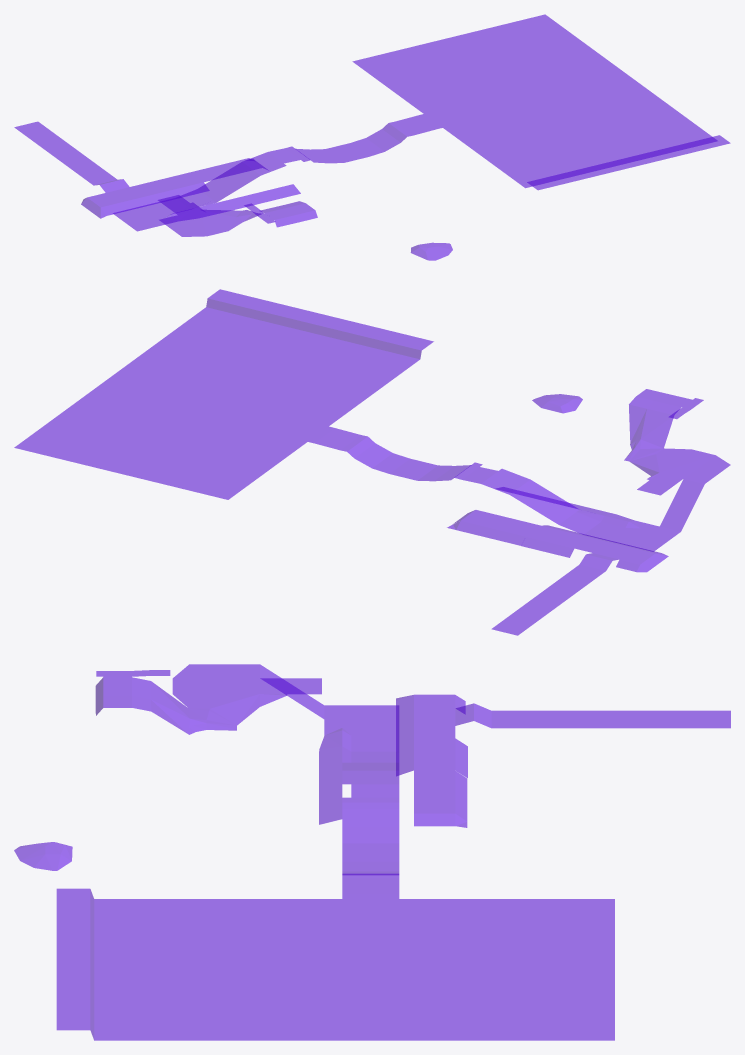
The model's file is WorldADV03_Beach_Floors.glb.
The picture shows the model from 3 angles, top to bottom: view 1: azimuth 30°, elevation 25°; view 2: azimuth 150°, elevation 25°; view 3: azimuth 270°, elevation 25°; orthographic projection. The views are drawn at different scales.
Parts seen in each view (by area): view 1: F_fullhitbox_arena1, F_fullhitbox_strand2, F_fullhitbox_weg2, F_fullhitbox_bruecke1, F_fullhitbox_weg1, F_fullhitbox_weg3, F_fullhitbox_weg4, F_fullhitbox_insel; view 2: F_fullhitbox_arena1, F_fullhitbox_strand2, F_fullhitbox_weg2, F_fullhitbox_bruecke1, F_fullhitbox_weg1, F_fullhitbox_weg3, F_fullhitbox_insel; view 3: F_fullhitbox_arena1, F_fullhitbox_strand2, F_fullhitbox_weg2, F_fullhitbox_bruecke1, F_fullhitbox_weg1, F_fullhitbox_weg4, F_fullhitbox_weg3, F_fullhitbox_insel.
Part boxes in pixels (x1=…): F_fullhitbox_arena1: x1=352, y1=14, x2=730, y2=190; F_fullhitbox_strand2: x1=14, y1=121, x2=267, y2=218; F_fullhitbox_weg2: x1=158, y1=195, x2=317, y2=236; F_fullhitbox_bruecke1: x1=268, y1=115, x2=435, y2=163; F_fullhitbox_weg1: x1=113, y1=189, x2=223, y2=231; F_fullhitbox_weg3: x1=198, y1=152, x2=286, y2=202; F_fullhitbox_weg4: x1=217, y1=184, x2=300, y2=211; F_fullhitbox_insel: x1=411, y1=242, x2=452, y2=260; F_fullhitbox_arena1: x1=14, y1=289, x2=433, y2=499; F_fullhitbox_strand2: x1=447, y1=510, x2=668, y2=635; F_fullhitbox_weg2: x1=624, y1=389, x2=730, y2=531; F_fullhitbox_bruecke1: x1=315, y1=428, x2=497, y2=483; F_fullhitbox_weg1: x1=559, y1=507, x2=680, y2=551; F_fullhitbox_weg3: x1=481, y1=469, x2=579, y2=524; F_fullhitbox_insel: x1=532, y1=394, x2=582, y2=413; F_fullhitbox_arena1: x1=56, y1=888, x2=614, y2=1040; F_fullhitbox_strand2: x1=396, y1=694, x2=730, y2=827; F_fullhitbox_weg2: x1=95, y1=664, x2=324, y2=734; F_fullhitbox_bruecke1: x1=342, y1=784, x2=399, y2=894; F_fullhitbox_weg1: x1=319, y1=705, x2=399, y2=768; F_fullhitbox_weg4: x1=319, y1=763, x2=342, y2=824; F_fullhitbox_weg3: x1=342, y1=762, x2=399, y2=784; F_fullhitbox_insel: x1=14, y1=842, x2=72, y2=870.
Bounding box in the file's own units: 23.57 × 2.26 × 18.81.
